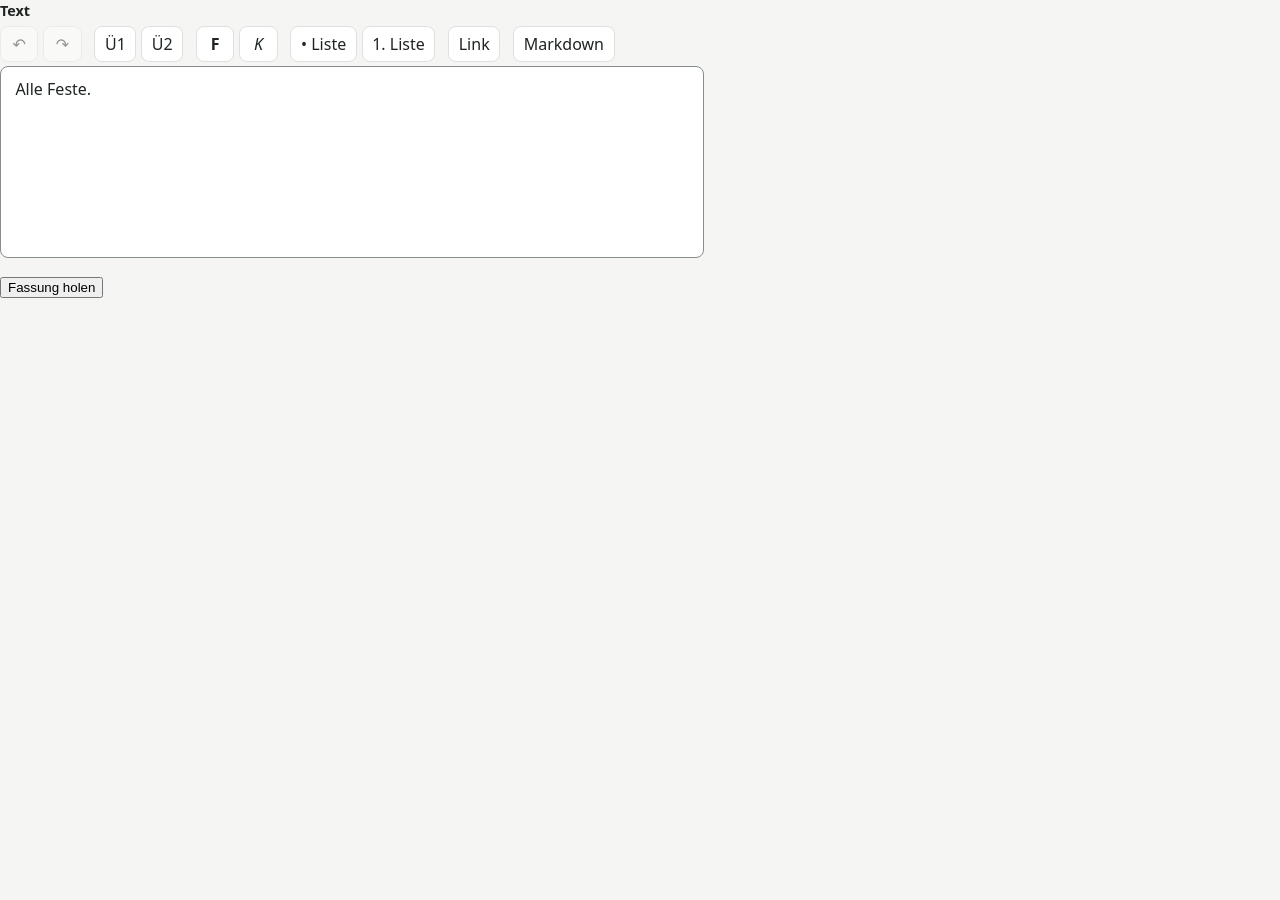
Editor für Webseitentexte › verlinkt eine Seite der eigenen Webseite aus der Liste
Step 1. Click the button with aria-label "Link (Strg+K)" → (474, 44), box [448,26,500,62]
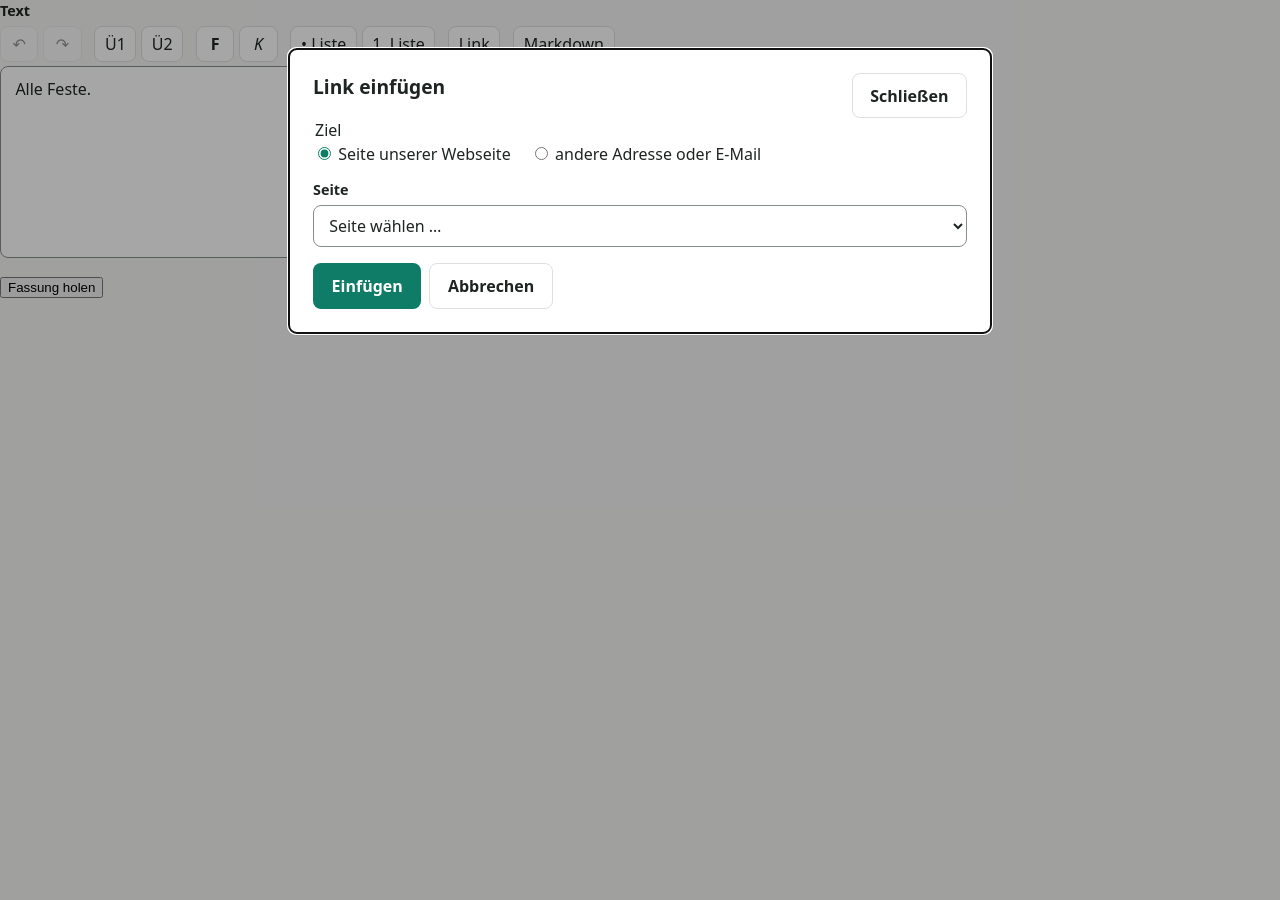
Expected: the radio button labelled "Seite unserer Webseite" is checked, [318,147,331,160]
Step 2. Select "Termine" in the dropdown labelled "Seite" → (640, 226), box [313,205,967,247]
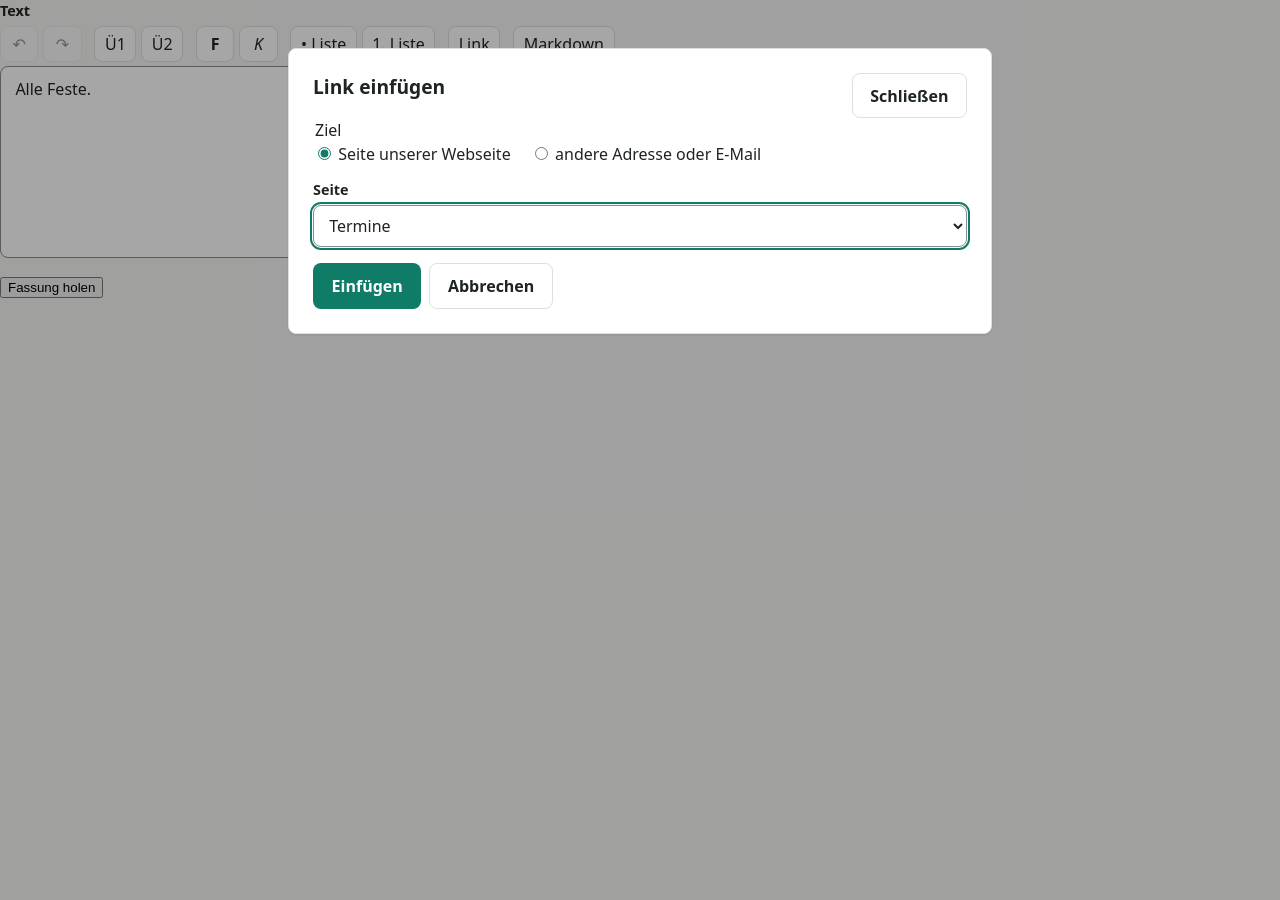
Step 3. Click the button "Einfügen" → (367, 286), box [313,263,421,309]
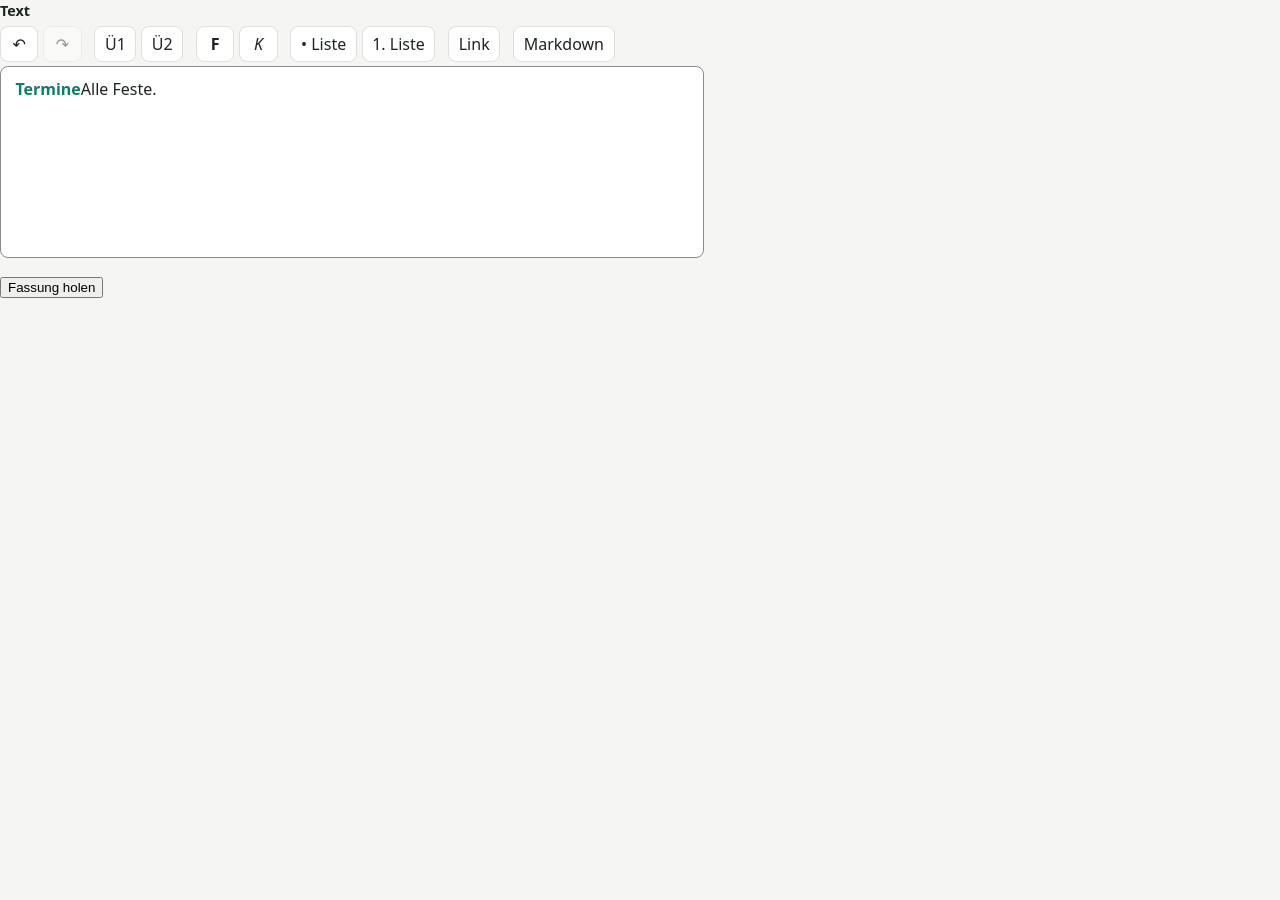
Expected: the link "Termine" is shown, [15,78,81,100]
